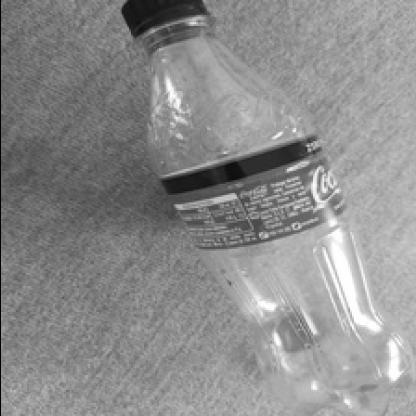plastic_bottles: (108, 0, 414, 414)
